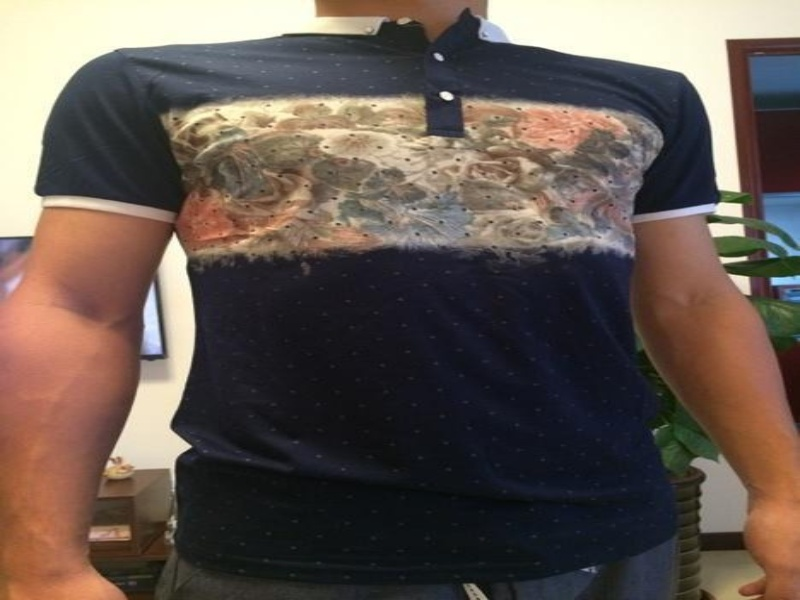short_sleeved_shirt: (34, 8, 720, 588)
